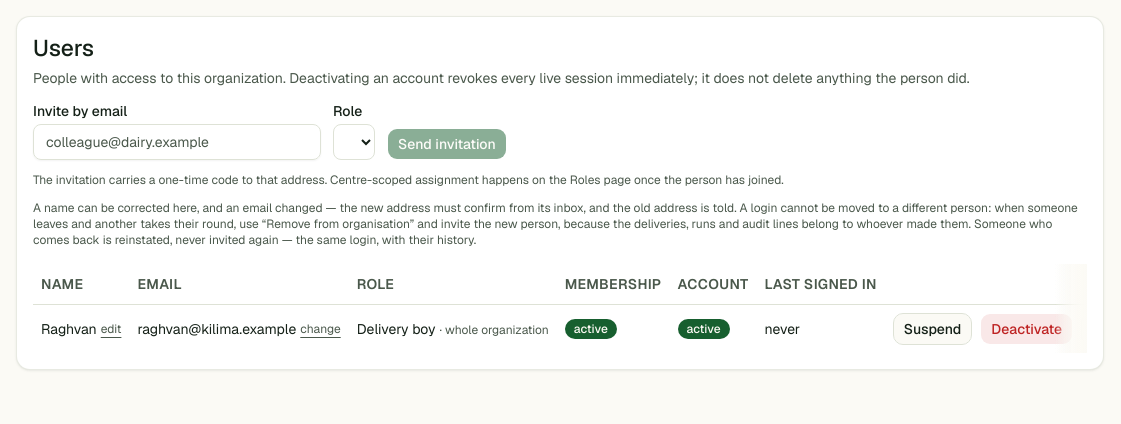
Test case: Admin → Users (WO-87 §2, §3, §4) › corrects a member's name in the row through the platform
Check: the text "Raghvan" is shown, box [41,320,97,338]
Click the button with aria-label "Edit name of Raghvan" at [111, 329], box [101,321,121,337]
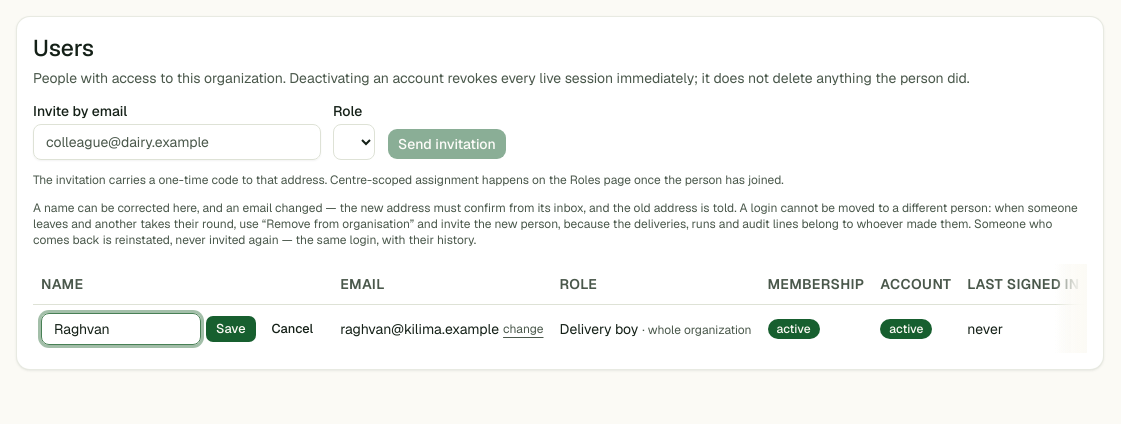
Replace the text in the field named "Name" with "Raghavan" at [121, 329], box [41,313,201,345]
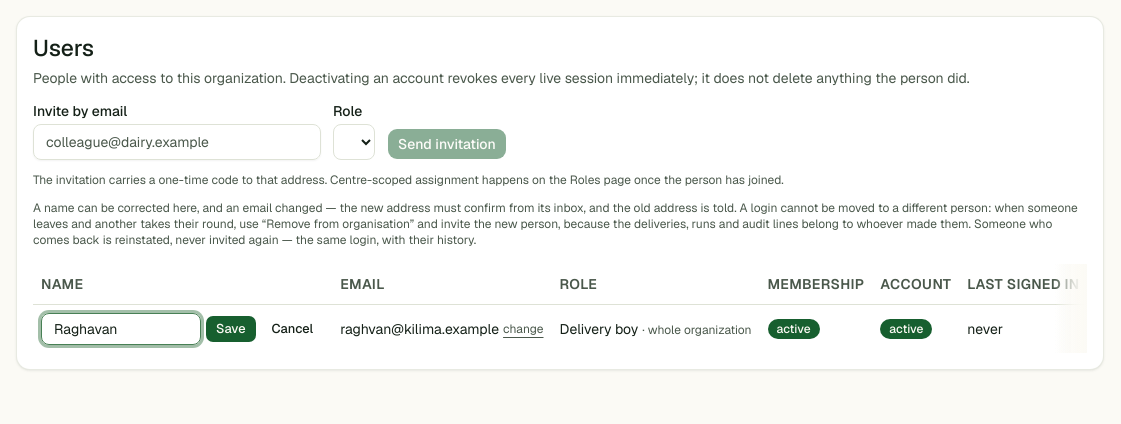
Click the button "Save" at [231, 329], box [205,315,256,343]
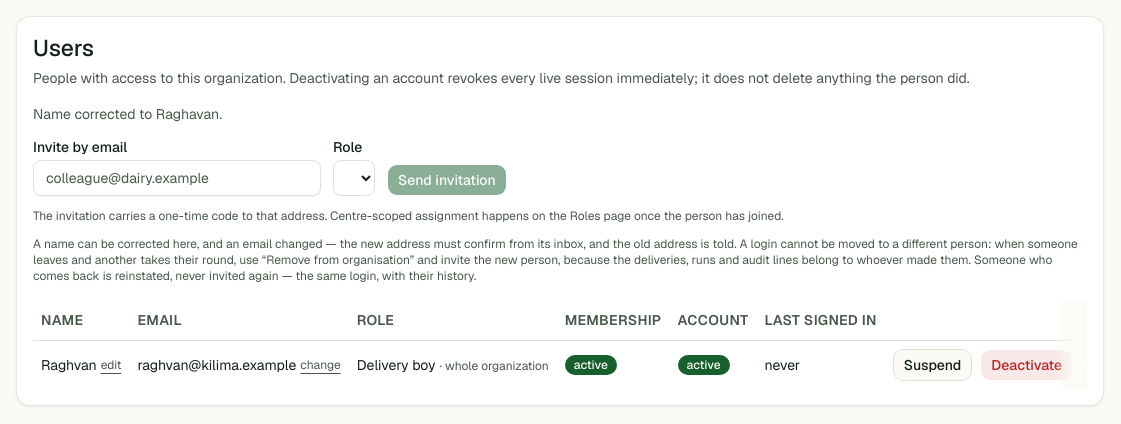
Check: the text "Name corrected to Raghavan." is shown, box [33,105,222,123]
